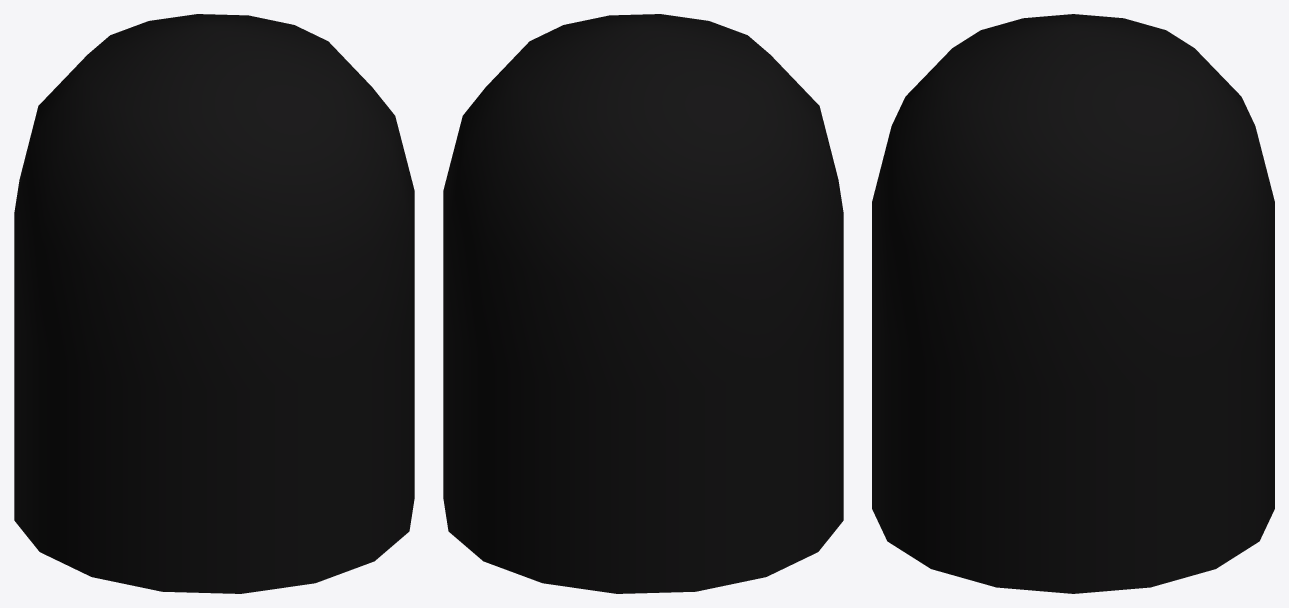
Rendered from Arm_Sleeve_L_07_R.fbx.
The picture shows the model from 3 angles, left to right: view 1: azimuth 30°, elevation 25°; view 2: azimuth 150°, elevation 25°; view 3: azimuth 270°, elevation 25°; orthographic projection.
Parts seen in each view (by area): view 1: Arm_Sleeve_L_07_R; view 2: Arm_Sleeve_L_07_R; view 3: Arm_Sleeve_L_07_R.
Boxes of the visible parts, <box> form: Arm_Sleeve_L_07_R: <box>14,14,414,593</box>; Arm_Sleeve_L_07_R: <box>443,14,843,593</box>; Arm_Sleeve_L_07_R: <box>872,14,1274,593</box>.
Size of the model in its own units: 48.18 by 63.45 by 48.18.
